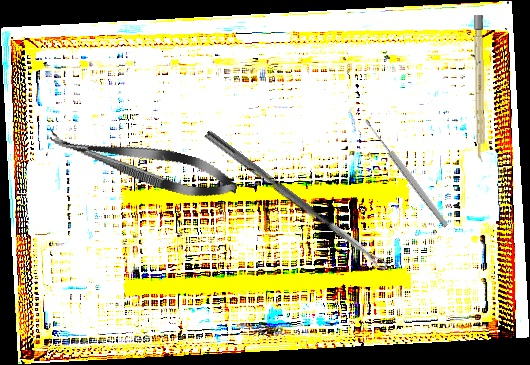Micro Scissor: (44, 119, 242, 208)
Scalpel Handle: (473, 14, 486, 163)
Surgical Spoon: (203, 129, 389, 273), (363, 117, 450, 229)
